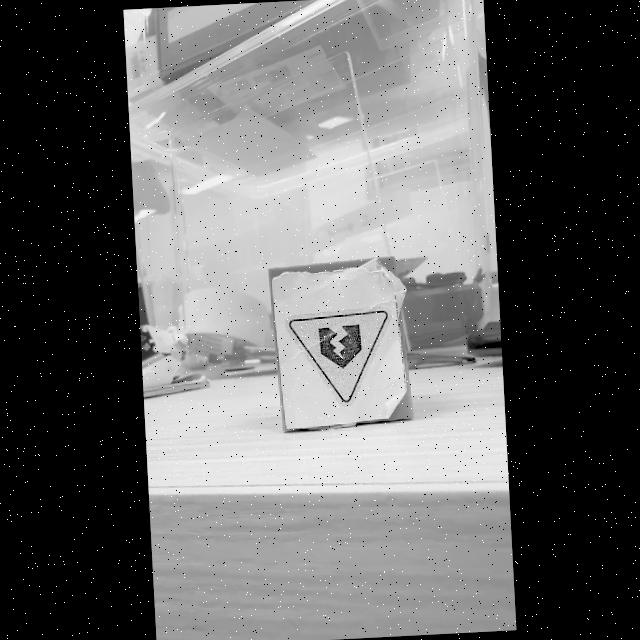Earthquake: (287, 309, 391, 406)
